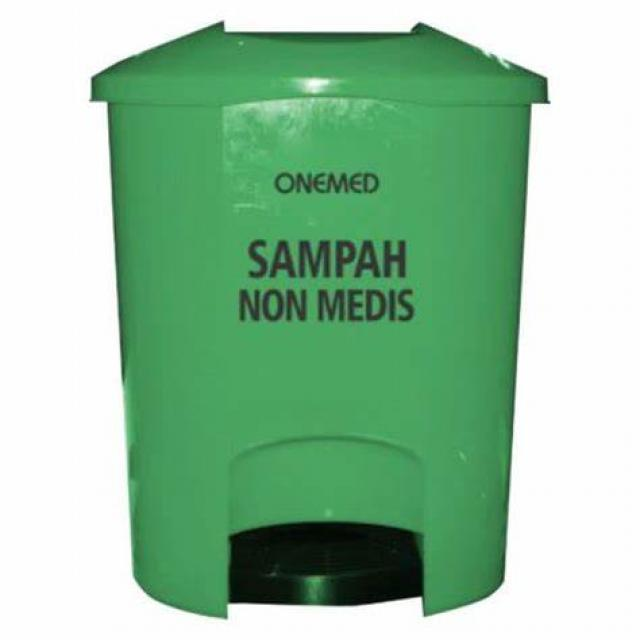garbage container: (89, 14, 565, 632)
